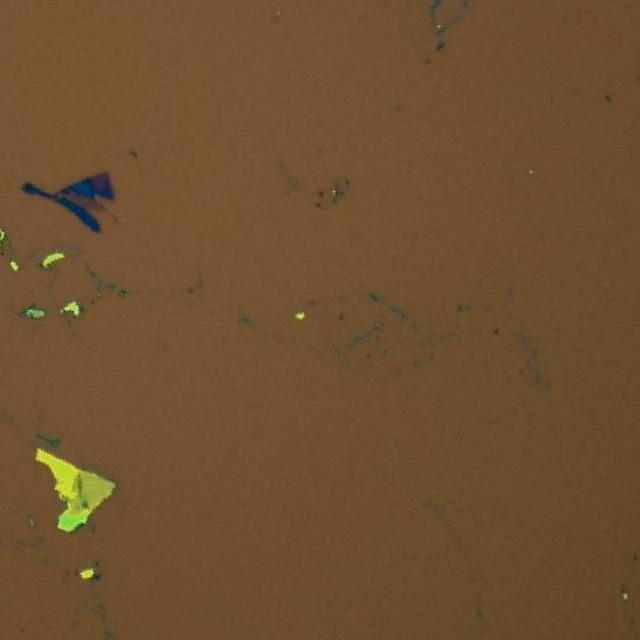monolayer-eWW4: (70, 190, 106, 213)
